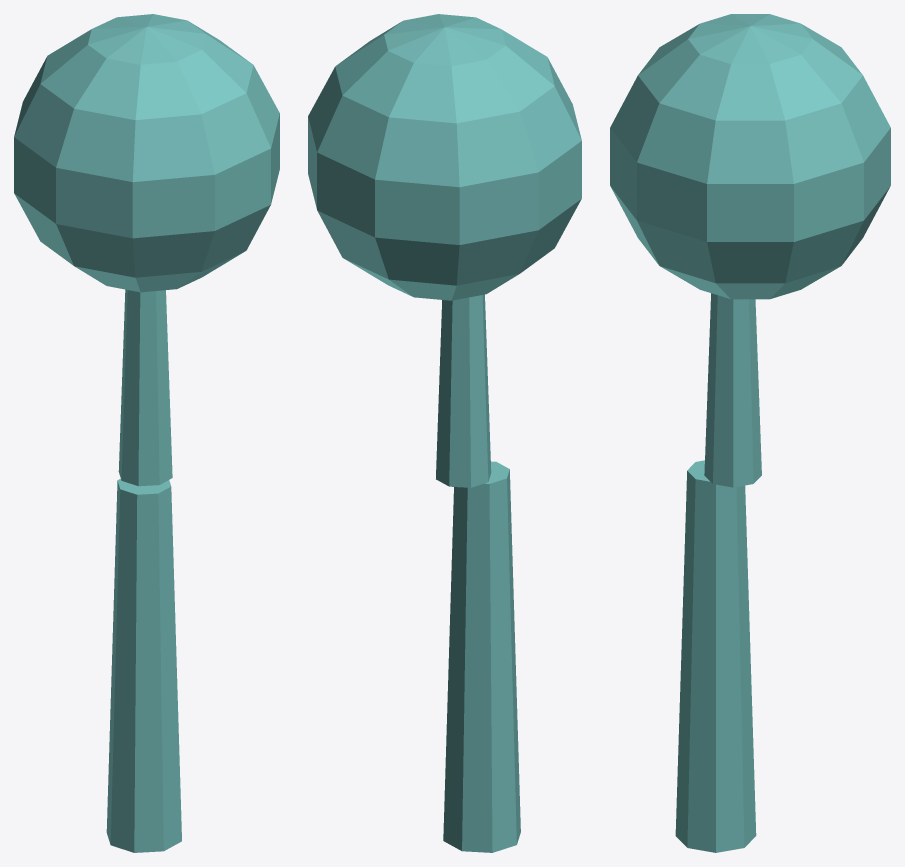
The model's file is fol_glowplant_a.glb.
The picture shows the model from 3 angles, left to right: view 1: azimuth 30°, elevation 25°; view 2: azimuth 150°, elevation 25°; view 3: azimuth 270°, elevation 25°; orthographic projection. The views are drawn at different scales.
Visible parts, largest first — view 1: fol_glowplant_a_bulb, fol_glowplant_a_stem_lo, fol_glowplant_a_stem_hi; view 2: fol_glowplant_a_bulb, fol_glowplant_a_stem_lo, fol_glowplant_a_stem_hi; view 3: fol_glowplant_a_bulb, fol_glowplant_a_stem_lo, fol_glowplant_a_stem_hi.
Part boxes in pixels (x1,y1,x2,y2): fol_glowplant_a_bulb: (14,14,279,292); fol_glowplant_a_stem_lo: (106,478,181,852); fol_glowplant_a_stem_hi: (118,289,172,486); fol_glowplant_a_bulb: (308,14,581,300); fol_glowplant_a_stem_lo: (443,461,520,852); fol_glowplant_a_stem_hi: (436,294,491,487); fol_glowplant_a_bulb: (610,14,890,299); fol_glowplant_a_stem_lo: (675,460,756,852); fol_glowplant_a_stem_hi: (704,293,761,487).
Bounding box in the file's own units: 0.4636 × 1.57 × 0.4875.
